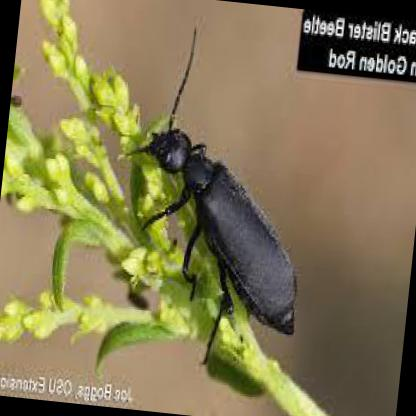blister beetle: (115, 30, 297, 336)
